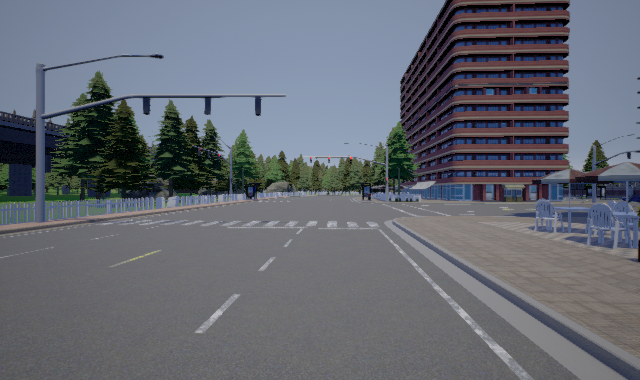traffic_light: (385, 178, 387, 184), (350, 157, 352, 163), (328, 157, 330, 163), (310, 157, 312, 163)
